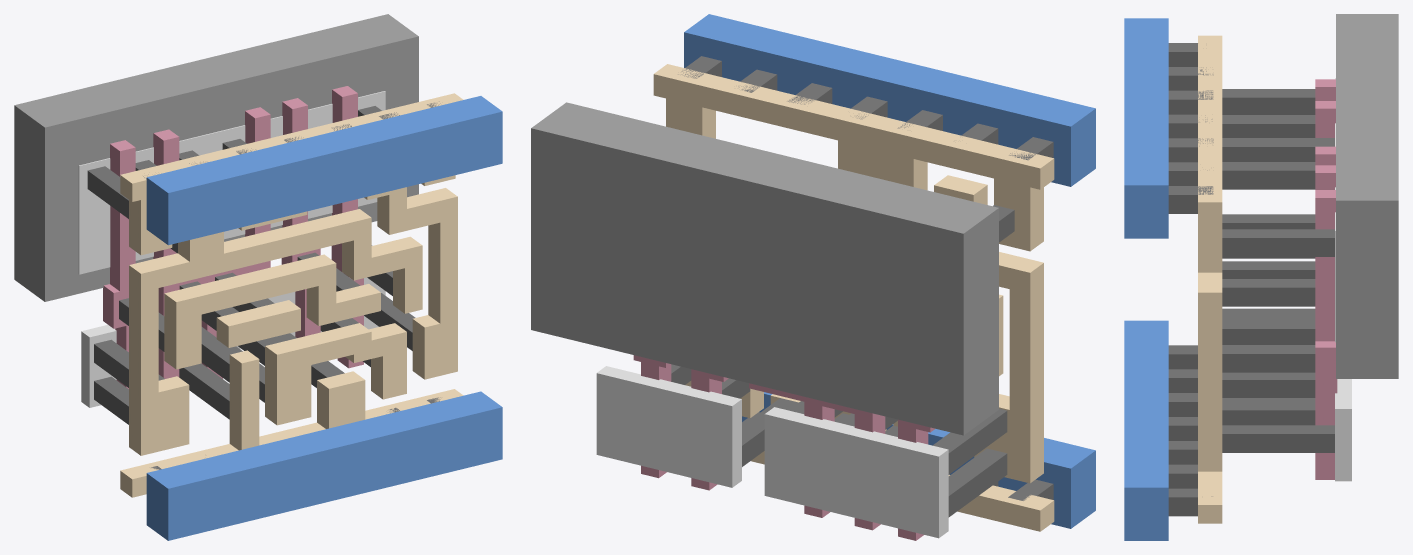
The model's file is sky130_fd_sc_hd__xnor2_1.gds.gltf.
3 renders of one model, left to right at view 1: azimuth 30°, elevation 25°; view 2: azimuth 150°, elevation 25°; view 3: azimuth 270°, elevation 25°, orthographic. The views are drawn at different scales.
Parts seen in each view (by area): view 1: sky130_fd_sc_hd__xnor2_1_li1, sky130_fd_sc_hd__xnor2_1_met1, sky130_fd_sc_hd__xnor2_1_nwell, sky130_fd_sc_hd__xnor2_1_licon, sky130_fd_sc_hd__xnor2_1_poly, sky130_fd_sc_hd__xnor2_1_diff; view 2: sky130_fd_sc_hd__xnor2_1_nwell, sky130_fd_sc_hd__xnor2_1_li1, sky130_fd_sc_hd__xnor2_1_diff, sky130_fd_sc_hd__xnor2_1_met1, sky130_fd_sc_hd__xnor2_1_licon, sky130_fd_sc_hd__xnor2_1_mcon, sky130_fd_sc_hd__xnor2_1_poly; view 3: sky130_fd_sc_hd__xnor2_1_licon, sky130_fd_sc_hd__xnor2_1_nwell, sky130_fd_sc_hd__xnor2_1_met1, sky130_fd_sc_hd__xnor2_1_li1, sky130_fd_sc_hd__xnor2_1_mcon, sky130_fd_sc_hd__xnor2_1_poly, sky130_fd_sc_hd__xnor2_1_diff.
Part boxes in pixels (bbox=[...]): sky130_fd_sc_hd__xnor2_1_li1: bbox=[120, 93, 463, 497]; sky130_fd_sc_hd__xnor2_1_met1: bbox=[146, 96, 502, 540]; sky130_fd_sc_hd__xnor2_1_nwell: bbox=[14, 14, 418, 301]; sky130_fd_sc_hd__xnor2_1_licon: bbox=[87, 106, 415, 424]; sky130_fd_sc_hd__xnor2_1_poly: bbox=[103, 86, 363, 388]; sky130_fd_sc_hd__xnor2_1_diff: bbox=[78, 91, 385, 407]; sky130_fd_sc_hd__xnor2_1_nwell: bbox=[531, 102, 998, 435]; sky130_fd_sc_hd__xnor2_1_li1: bbox=[653, 64, 1054, 531]; sky130_fd_sc_hd__xnor2_1_diff: bbox=[596, 366, 948, 538]; sky130_fd_sc_hd__xnor2_1_met1: bbox=[684, 14, 1095, 528]; sky130_fd_sc_hd__xnor2_1_licon: bbox=[671, 205, 1014, 517]; sky130_fd_sc_hd__xnor2_1_mcon: bbox=[678, 56, 1053, 500]; sky130_fd_sc_hd__xnor2_1_poly: bbox=[633, 355, 935, 540]; sky130_fd_sc_hd__xnor2_1_licon: bbox=[1222, 89, 1334, 452]; sky130_fd_sc_hd__xnor2_1_nwell: bbox=[1336, 14, 1398, 378]; sky130_fd_sc_hd__xnor2_1_met1: bbox=[1124, 18, 1168, 540]; sky130_fd_sc_hd__xnor2_1_li1: bbox=[1198, 35, 1222, 523]; sky130_fd_sc_hd__xnor2_1_mcon: bbox=[1168, 43, 1213, 516]; sky130_fd_sc_hd__xnor2_1_poly: bbox=[1315, 79, 1337, 479]; sky130_fd_sc_hd__xnor2_1_diff: bbox=[1335, 78, 1351, 481].
Size of the model in its own units: 3.6 by 3.2 by 2.24.
